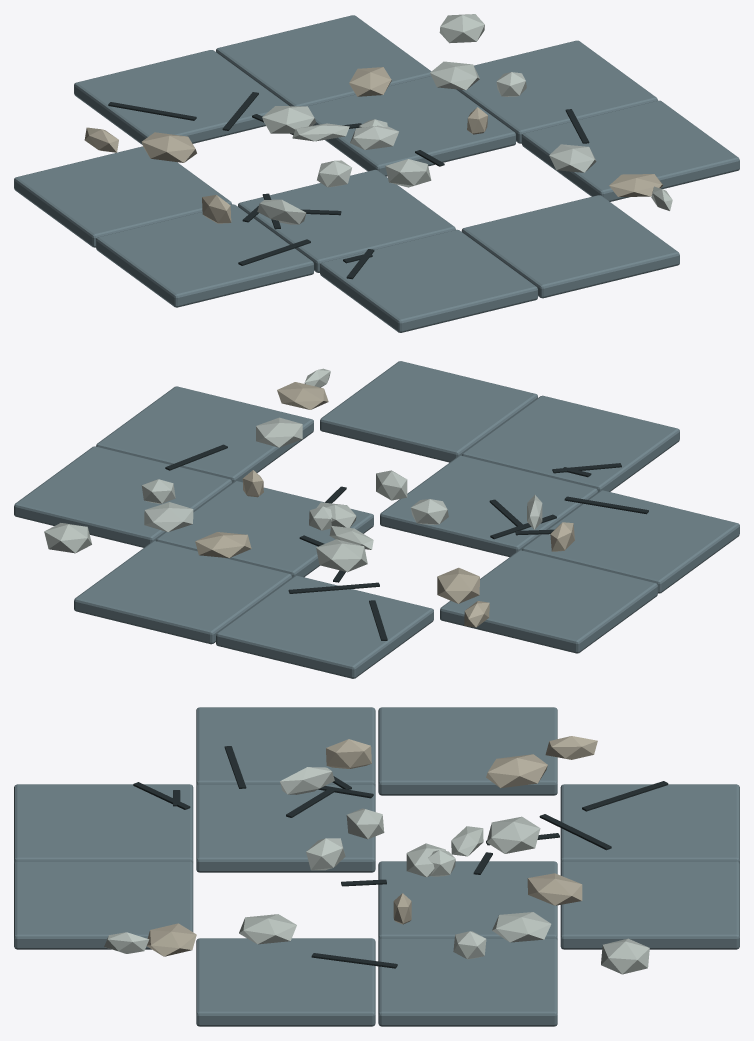
The model's file is road_straight_d3.glb.
The picture shows the model from 3 angles, top to bottom: view 1: azimuth 30°, elevation 25°; view 2: azimuth 150°, elevation 25°; view 3: azimuth 270°, elevation 25°; orthographic projection. The views are drawn at different scales.
Parts seen in each view (by area): view 1: Road panel.048, Road panel.051, Road panel.046, Road panel.050, Road panel.047, Road panel.054, Road panel.053, Road panel.052, Road panel.055, Road panel.049, Bounded fractured debris.280, Bounded fractured debris.285 (+13 smaller); view 2: Road panel.050, Road panel.053, Road panel.051, Road panel.047, Road panel.048, Road panel.046, Road panel.055, Road panel.049, Road panel.054, Road panel.052, Bounded fractured debris.285, Bounded fractured debris.280 (+12 smaller); view 3: Road panel.054, Road panel.055, Road panel.053, Road panel.051, Road panel.047, Road panel.048, Road panel.049, Road panel.050, Road panel.046, Road panel.052, Bounded fractured debris.280, Bounded fractured debris.285 (+15 smaller).
Part boxes in pixels (x1,y1,x2,y2): Road panel.048: [320, 229, 537, 332]; Road panel.051: [461, 195, 679, 298]; Road panel.046: [96, 204, 313, 307]; Road panel.050: [74, 50, 288, 144]; Road panel.047: [14, 146, 231, 247]; Road panel.054: [521, 100, 739, 201]; Road panel.053: [216, 15, 431, 106]; Road panel.052: [308, 76, 515, 176]; Road panel.055: [456, 40, 657, 143]; Road panel.049: [238, 169, 455, 272]; Bounded fractured debris.280: [141, 132, 196, 162]; Bounded fractured debris.285: [262, 106, 316, 133]; Road panel.050: [216, 575, 433, 678]; Road panel.053: [74, 541, 292, 644]; Road panel.051: [320, 361, 537, 462]; Road panel.047: [440, 550, 657, 653]; Road panel.048: [462, 395, 679, 492]; Road panel.046: [522, 490, 739, 593]; Road panel.055: [14, 446, 232, 547]; Road panel.049: [380, 455, 597, 557]; Road panel.054: [96, 386, 313, 482]; Road panel.052: [156, 481, 373, 577]; Bounded fractured debris.285: [316, 539, 367, 572]; Bounded fractured debris.280: [437, 567, 479, 603]; Road panel.054: [196, 938, 375, 1026]; Road panel.055: [378, 938, 557, 1026]; Road panel.053: [560, 861, 739, 949]; Road panel.051: [14, 861, 193, 949]; Road panel.047: [378, 707, 557, 795]; Road panel.048: [14, 784, 193, 863]; Road panel.049: [196, 784, 375, 872]; Road panel.050: [560, 784, 739, 863]; Road panel.046: [196, 707, 375, 786]; Road panel.052: [378, 861, 557, 940]; Bounded fractured debris.280: [486, 754, 547, 788]; Bounded fractured debris.285: [486, 816, 540, 853].
Bounding box in the file's own units: 7.97 × 0.5114 × 7.97.
